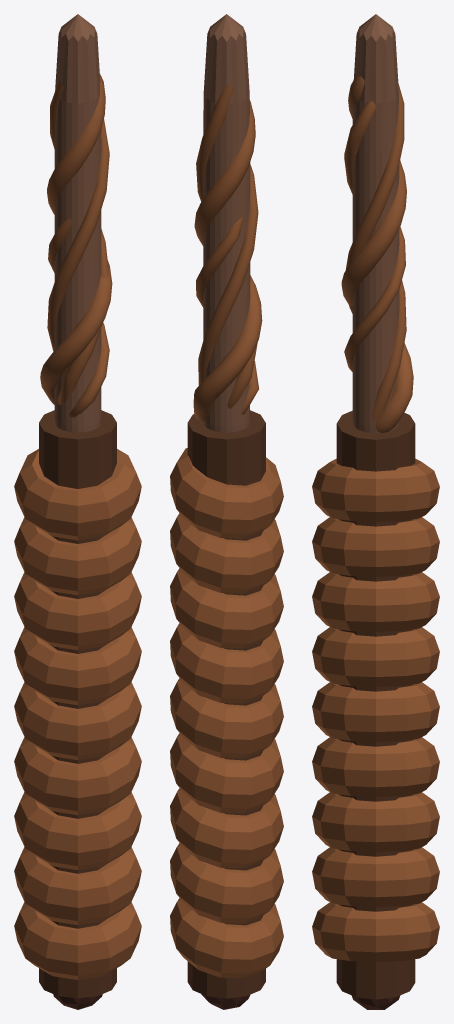
The model's file is Wand 470.glb.
3 renders of one model, left to right at view 1: azimuth 90°, elevation 25°; view 2: azimuth 150°, elevation 25°; view 3: azimuth 270°, elevation 25°, orthographic.
Parts seen in each view (by area): view 1: GeneratedWand; view 2: GeneratedWand; view 3: GeneratedWand.
Part boxes in pixels (<box>): GeneratedWand: <box>14,14,141,1009</box>; GeneratedWand: <box>170,14,283,1009</box>; GeneratedWand: <box>312,14,439,1009</box>.
Size of the model in its own units: 0.0497 by 0.4988 by 0.0581.
